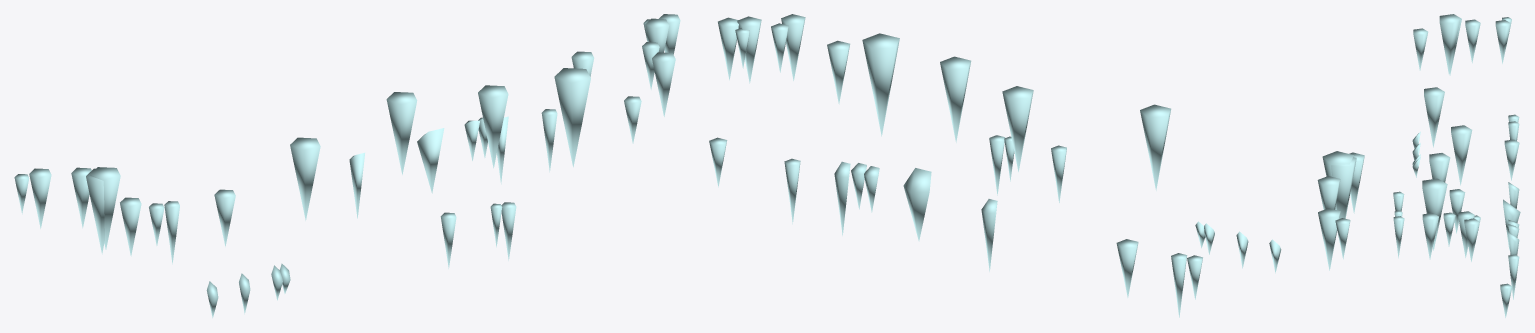
File: SM_Giantlog_Frost.fbx
3 views of the same model, side by side, from view 1: azimuth 30°, elevation 25°; view 2: azimuth 150°, elevation 25°; view 3: azimuth 270°, elevation 25° (orthographic). The views are drawn at different scales.
Visible parts, largest first — view 1: SM_Giantlog_Frost; view 2: SM_Giantlog_Frost; view 3: SM_Giantlog_Frost.
Part boxes in pixels (x1=…): SM_Giantlog_Frost: x1=14, y1=14, x2=680, y2=318; SM_Giantlog_Frost: x1=709, y1=14, x2=1364, y2=317; SM_Giantlog_Frost: x1=1393, y1=14, x2=1520, y2=317.
Size of the model in its own units: 765 by 180 by 182.
